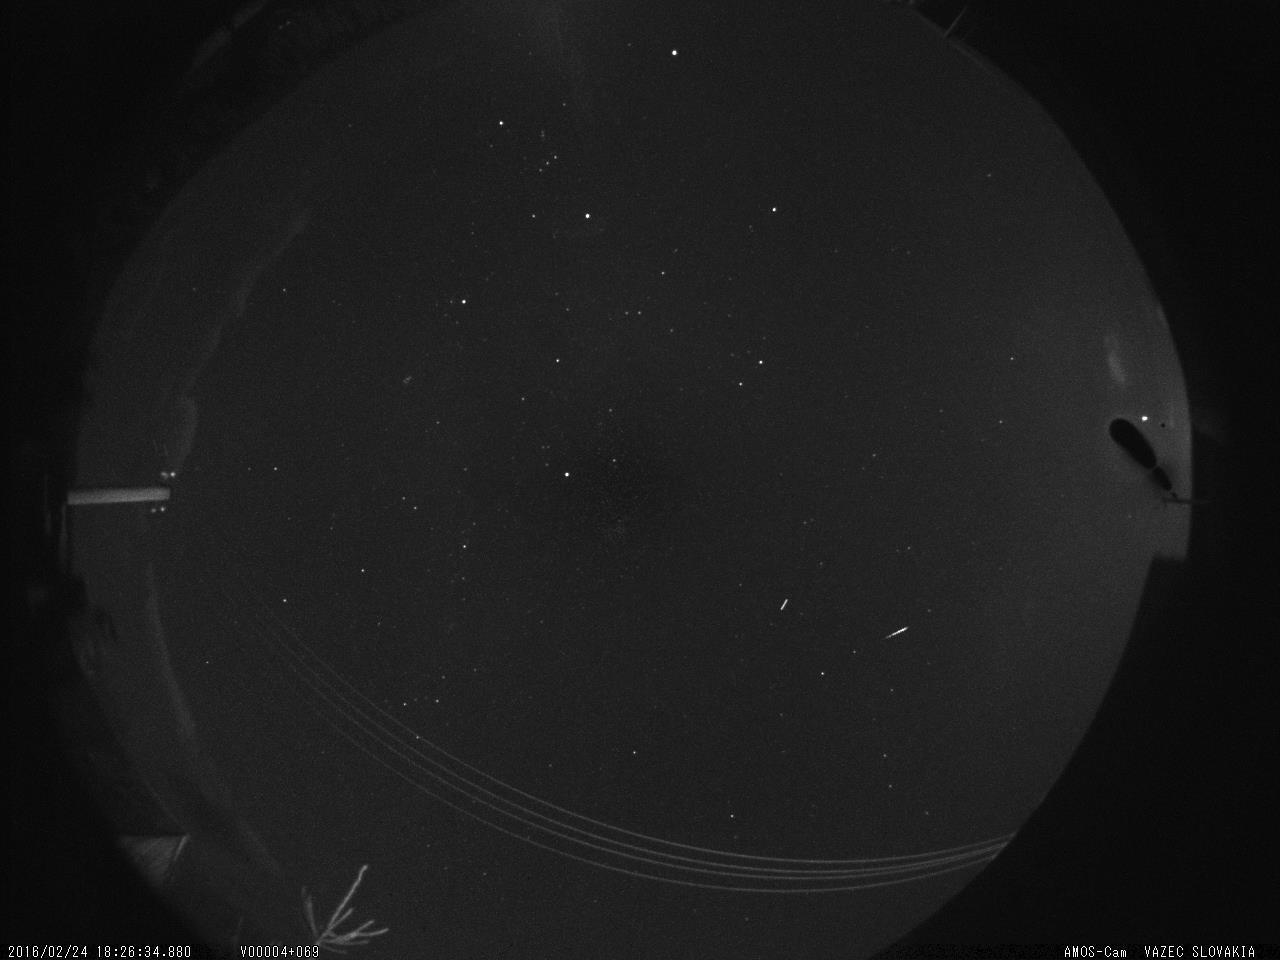Meteor: (880, 622, 911, 646)
